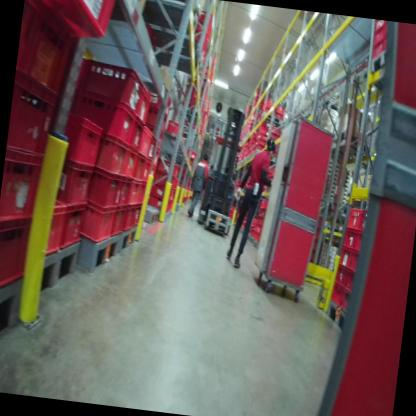pallet: (37, 236, 83, 304), (73, 228, 123, 280), (0, 271, 30, 354), (365, 42, 402, 87), (320, 297, 354, 336), (254, 110, 290, 128), (140, 204, 164, 229), (119, 222, 137, 255)
pallet_truck: (194, 96, 250, 235)
small_load_carrier: (18, 0, 79, 87), (67, 53, 147, 118), (8, 69, 60, 161), (81, 96, 149, 161), (34, 0, 114, 50), (0, 150, 44, 224), (59, 107, 102, 173), (0, 220, 32, 294), (55, 198, 88, 257), (78, 196, 115, 245), (40, 195, 65, 264), (86, 167, 124, 210), (94, 135, 131, 178), (133, 79, 154, 127), (143, 89, 175, 119), (119, 144, 141, 184), (151, 164, 179, 192), (145, 190, 174, 217), (109, 204, 127, 245), (145, 103, 169, 133), (154, 153, 180, 178), (164, 114, 186, 142), (116, 168, 132, 206), (149, 181, 175, 203), (336, 241, 354, 272), (120, 195, 136, 229), (123, 175, 141, 205), (340, 225, 357, 255), (132, 150, 147, 184), (345, 204, 362, 233), (139, 124, 153, 158), (132, 197, 146, 230), (329, 283, 344, 312), (341, 287, 357, 313), (136, 175, 149, 207), (331, 265, 348, 289), (145, 131, 157, 164), (352, 231, 368, 254), (355, 210, 370, 233), (153, 125, 166, 151), (140, 157, 153, 183), (347, 250, 359, 276), (345, 268, 358, 292), (150, 151, 159, 167)
